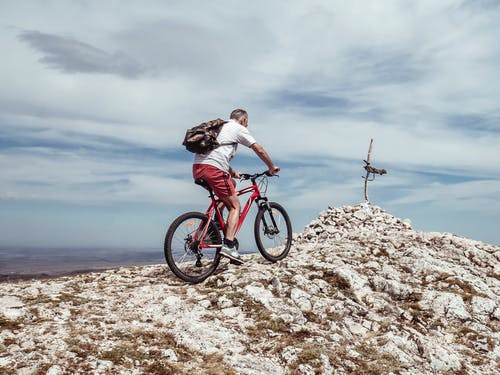bicycle: (160, 160, 297, 286)
